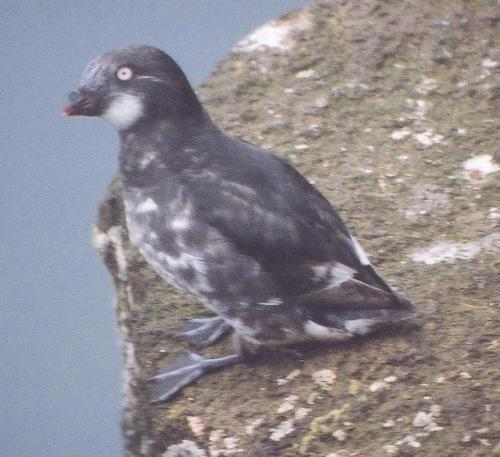006.Least_Auklet: (63, 46, 420, 405)
